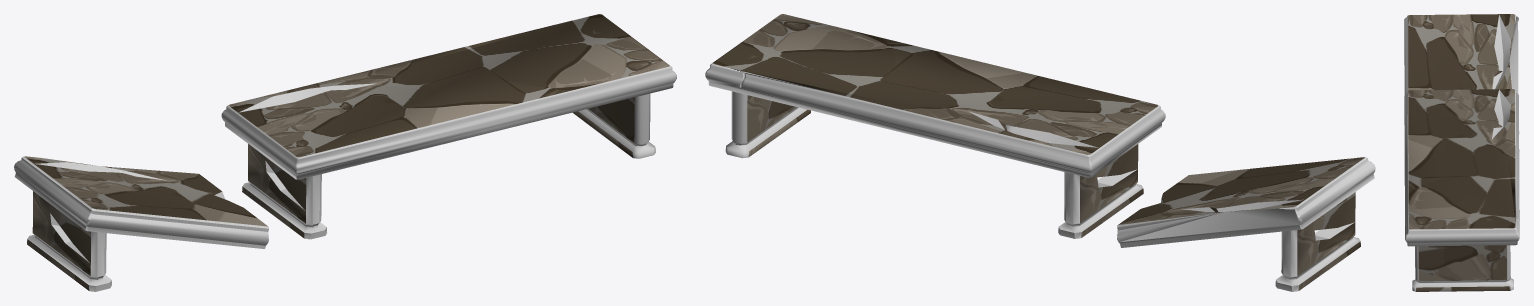
Rendered from BenchSeat.fbx.
The picture shows the model from 3 angles, left to right: view 1: azimuth 30°, elevation 25°; view 2: azimuth 150°, elevation 25°; view 3: azimuth 270°, elevation 25°; orthographic projection. The views are drawn at different scales.
Visible parts, largest first — view 1: BenchSeat, BenchSeat_Broke; view 2: BenchSeat, BenchSeat_Broke; view 3: BenchSeat, BenchSeat_Broke.
Boxes of the visible parts, x1,y1,x2,y2 form: BenchSeat: (221, 14, 676, 239); BenchSeat_Broke: (14, 156, 268, 291); BenchSeat: (705, 14, 1165, 238); BenchSeat_Broke: (1117, 157, 1375, 291); BenchSeat: (1404, 89, 1519, 291); BenchSeat_Broke: (1404, 14, 1519, 133).
Size of the model in its own units: 233 by 33.46 by 51.65.
